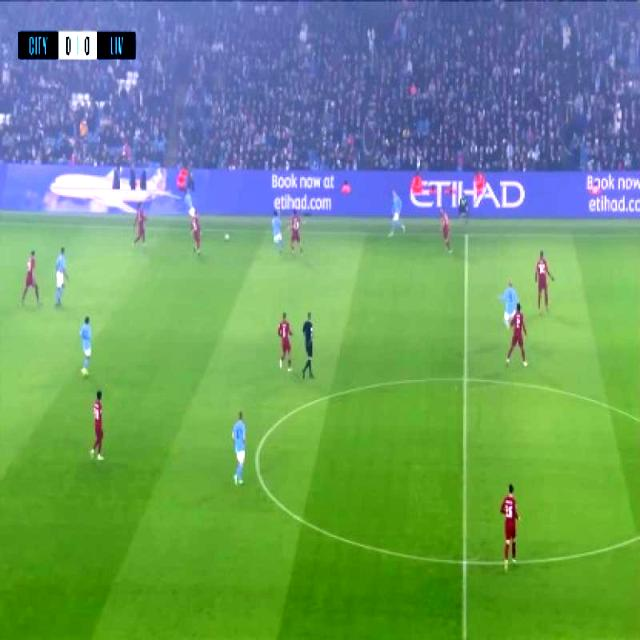halfcircle_bottom: (451, 544, 477, 578)
halfcircle_top: (450, 361, 480, 396)
midline_top_intersection: (457, 222, 475, 248)
